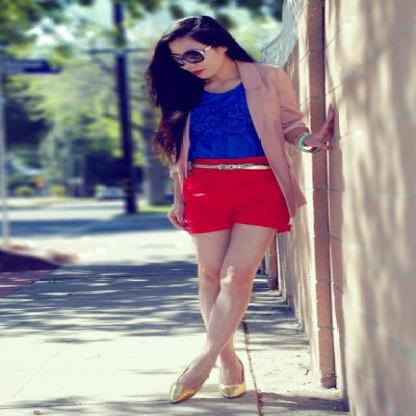jacket: (168, 58, 306, 216)
shirt: (188, 82, 261, 163)
shoe: (169, 380, 259, 406)
shorts: (182, 148, 291, 233)
sunglass: (174, 50, 204, 70)
